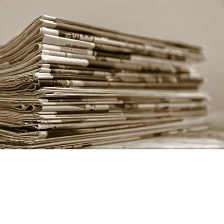news_paper: (0, 13, 217, 149)
